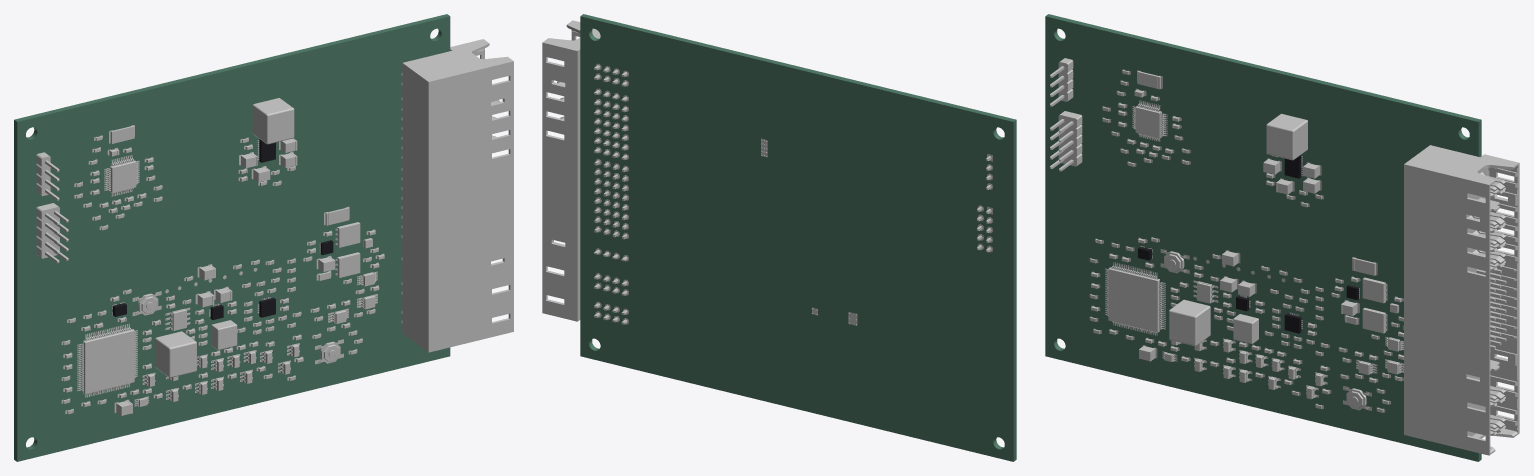
Rendered from board2.glb.
The picture shows the model from 3 angles, left to right: view 1: azimuth 30°, elevation 25°; view 2: azimuth 150°, elevation 25°; view 3: azimuth 330°, elevation 25°; orthographic projection.
Visible parts, largest first — view 1: Board2_PCB, R_0603_1608Metric, body; view 2: Board2_PCB, R_0603_1608Metric; view 3: Board2_PCB, R_0603_1608Metric, body.
Part boxes in pixels (left/top/right/bottom): Board2_PCB: left=14, top=14, right=450, bottom=461; R_0603_1608Metric: left=36, top=39, right=513, bottom=416; body: left=112, top=139, right=333, bottom=319; Board2_PCB: left=580, top=14, right=1016, bottom=461; R_0603_1608Metric: left=542, top=20, right=992, bottom=325; Board2_PCB: left=1045, top=14, right=1481, bottom=461; R_0603_1608Metric: left=1050, top=58, right=1519, bottom=455; body: left=1138, top=155, right=1358, bottom=333.
Size of the model in its own units: 130 by 90 by 15.62.
